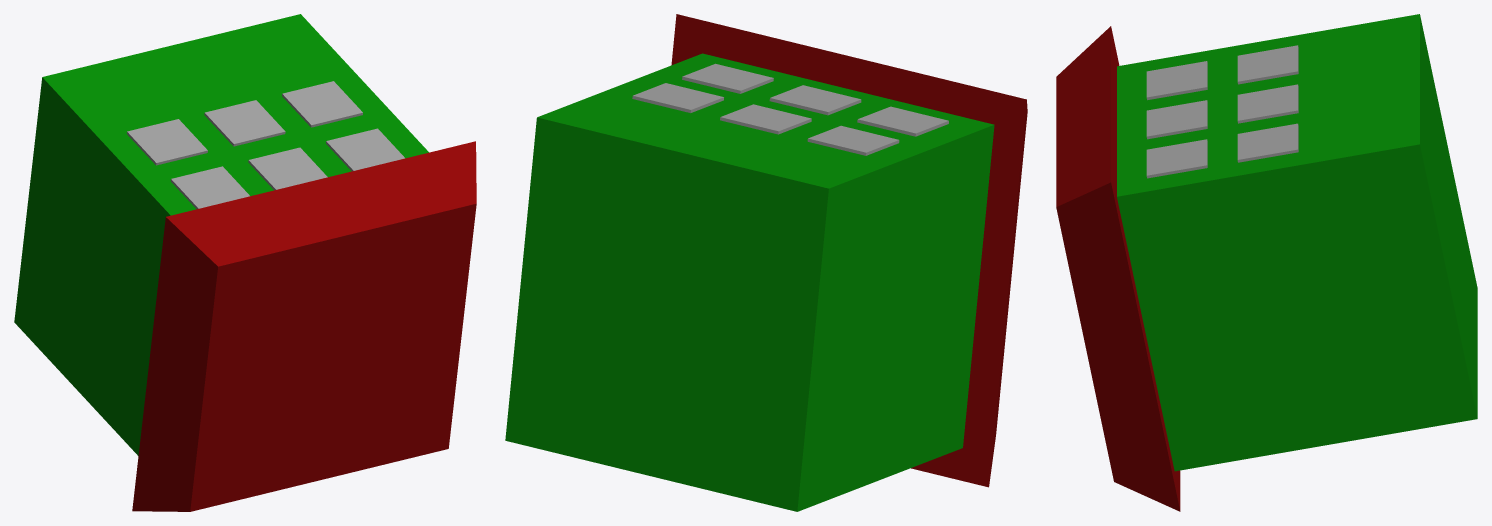
3 renders of one model, left to right at view 1: azimuth 30°, elevation 25°; view 2: azimuth 150°, elevation 25°; view 3: azimuth 270°, elevation 25°, orthographic. The views are drawn at different scales.
Parts seen in each view (by area): view 1: node; view 2: node; view 3: node.
Boxes of the visible parts, bbox=[...] form: node: bbox=[14, 14, 476, 511]; node: bbox=[505, 14, 1027, 511]; node: bbox=[1056, 14, 1477, 511].
Size of the model in its own units: 12 by 12.68 by 13.66.
